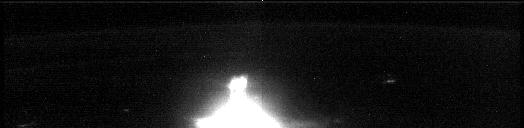positive: (225, 73, 250, 103)
